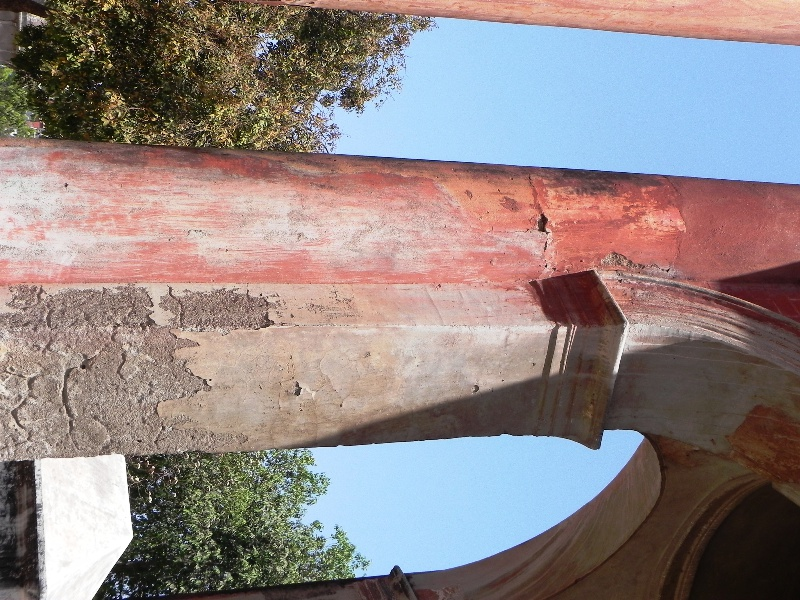Spalling: (1, 273, 276, 456), (530, 201, 556, 245)
